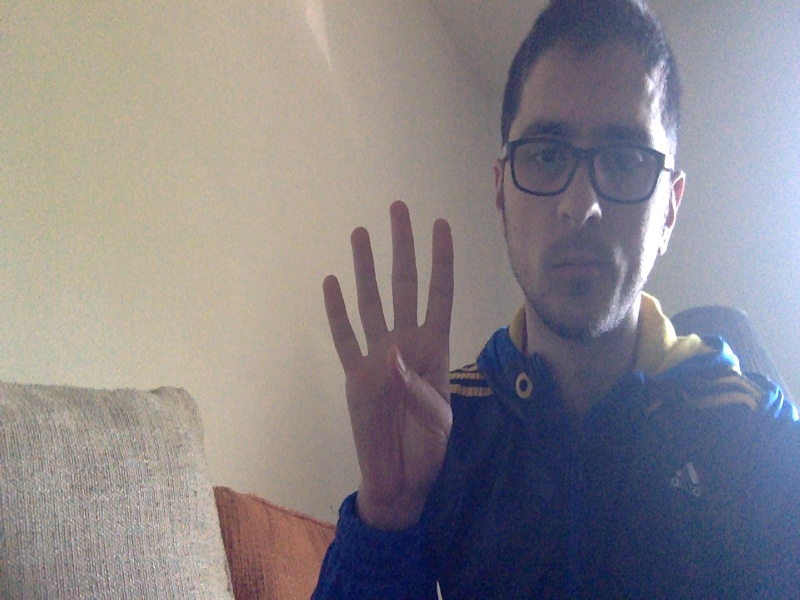4-hand: (321, 199, 459, 499)
